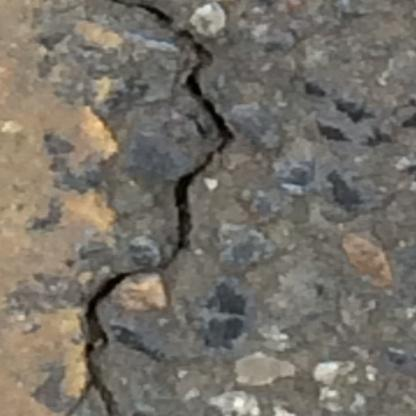Cracks: (133, 1, 240, 274), (61, 265, 150, 416), (91, 0, 129, 11)
